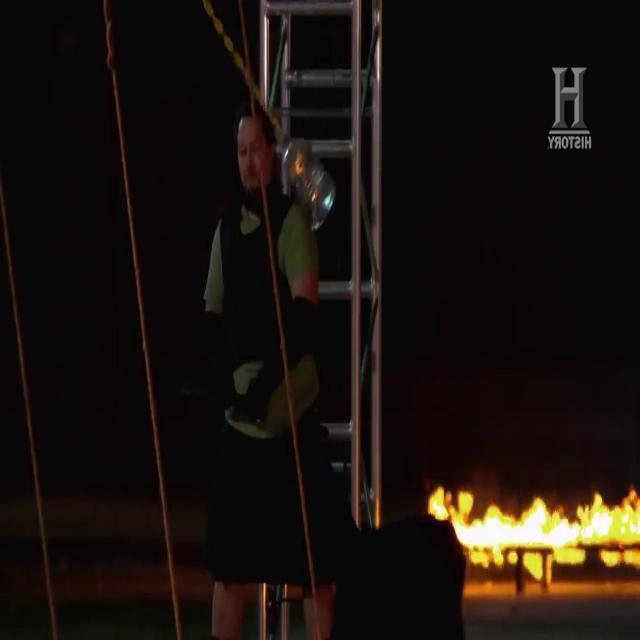fire: (423, 488, 638, 557)
